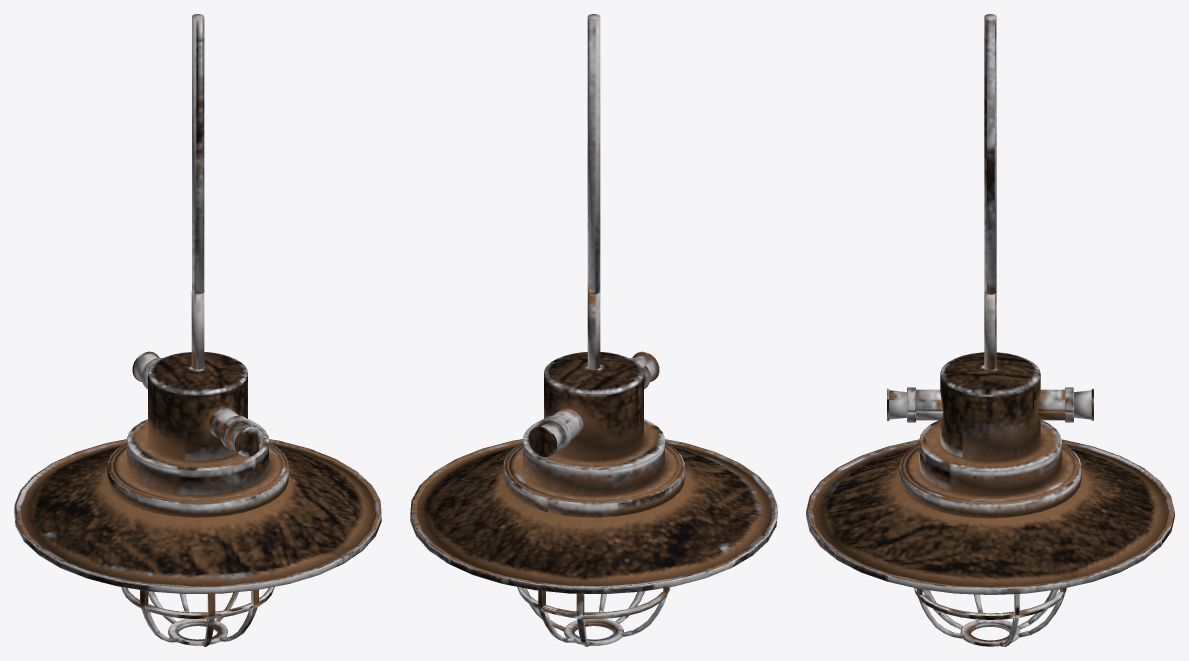
Rendered from lampa2_final.glb.
3 views of the same model, side by side, from view 1: azimuth 30°, elevation 25°; view 2: azimuth 150°, elevation 25°; view 3: azimuth 270°, elevation 25° (orthographic).
Visible parts, largest first — view 1: Cylinder.019; view 2: Cylinder.019; view 3: Cylinder.019.
Part boxes in pixels (<box>): Cylinder.019: <box>14,14,381,646</box>; Cylinder.019: <box>410,14,777,646</box>; Cylinder.019: <box>806,14,1174,646</box>.
Bounding box in the file's own units: 4.5 × 8.32 × 4.5.
1 material, 1 textured.
